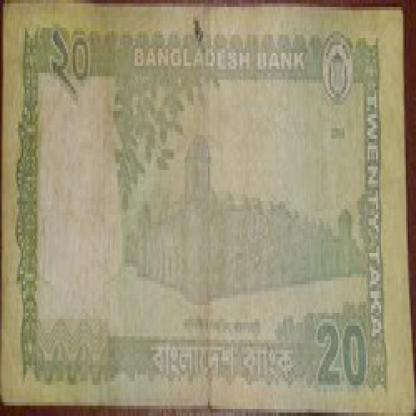Twenty: (310, 302, 374, 406), (46, 24, 104, 104)
